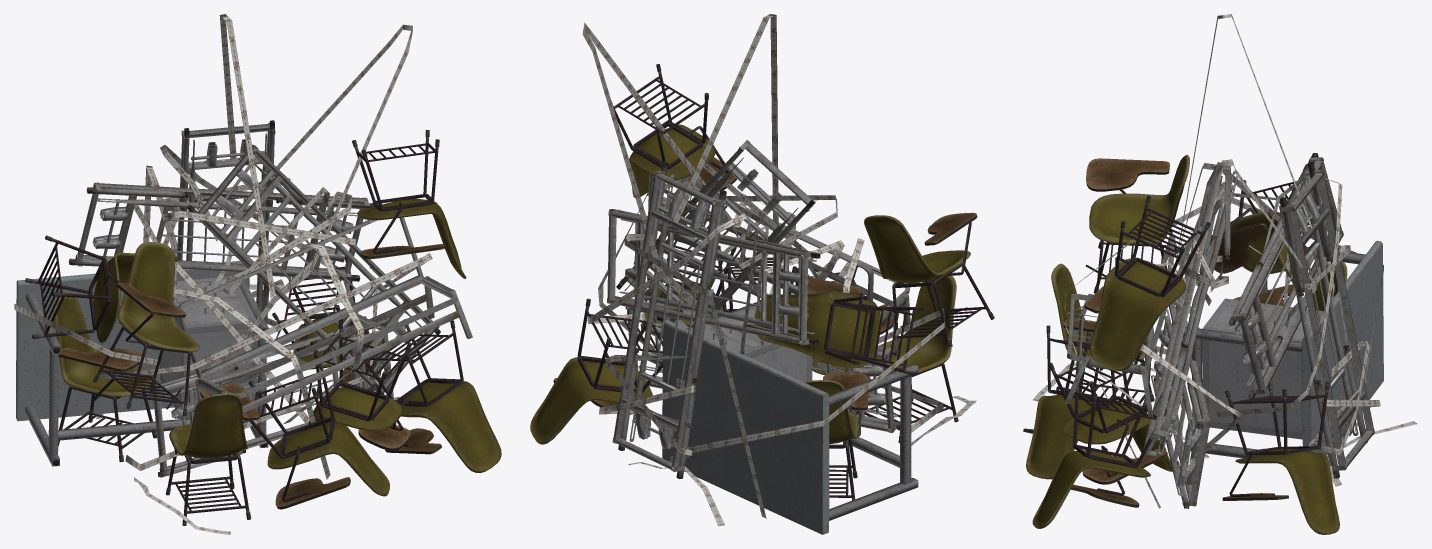
File: sm39_202_west_1f_poilicebarricade01.fbx
3 renders of one model, left to right at view 1: azimuth 30°, elevation 25°; view 2: azimuth 150°, elevation 25°; view 3: azimuth 270°, elevation 25°, orthographic.
Visible parts, largest first — view 1: LOD_1_Group_0_Sub_2__sm30_001_ChairDesk01A_A_Mat, LOD_1_Group_0_Sub_4__sm30_004_FoldingTable02A_A_Mat, LOD_1_Group_0_Sub_5__sm42_006_BlastBarricade01A_B_Mat, LOD_1_Group_0_Sub_1__sm30_059_HospitalDesk01A_A_Mat, LOD_1_Group_0_Sub_3__sm30_002_OfficeSofa01A_A_Mat; view 2: LOD_1_Group_0_Sub_2__sm30_001_ChairDesk01A_A_Mat, LOD_1_Group_0_Sub_4__sm30_004_FoldingTable02A_A_Mat, LOD_1_Group_0_Sub_1__sm30_059_HospitalDesk01A_A_Mat, LOD_1_Group_0_Sub_5__sm42_006_BlastBarricade01A_B_Mat, LOD_1_Group_0_Sub_3__sm30_002_OfficeSofa01A_A_Mat; view 3: LOD_1_Group_0_Sub_2__sm30_001_ChairDesk01A_A_Mat, LOD_1_Group_0_Sub_4__sm30_004_FoldingTable02A_A_Mat, LOD_1_Group_0_Sub_1__sm30_059_HospitalDesk01A_A_Mat, LOD_1_Group_0_Sub_5__sm42_006_BlastBarricade01A_B_Mat, LOD_1_Group_0_Sub_3__sm30_002_OfficeSofa01A_A_Mat.
Part boxes in pixels (x1=…): LOD_1_Group_0_Sub_2__sm30_001_ChairDesk01A_A_Mat: x1=25, y1=129, x2=501, y2=525; LOD_1_Group_0_Sub_4__sm30_004_FoldingTable02A_A_Mat: x1=68, y1=120, x2=440, y2=477; LOD_1_Group_0_Sub_5__sm42_006_BlastBarricade01A_B_Mat: x1=14, y1=14, x2=432, y2=534; LOD_1_Group_0_Sub_1__sm30_059_HospitalDesk01A_A_Mat: x1=16, y1=261, x2=268, y2=466; LOD_1_Group_0_Sub_3__sm30_002_OfficeSofa01A_A_Mat: x1=178, y1=217, x2=472, y2=412; LOD_1_Group_0_Sub_2__sm30_001_ChairDesk01A_A_Mat: x1=530, y1=64, x2=994, y2=500; LOD_1_Group_0_Sub_4__sm30_004_FoldingTable02A_A_Mat: x1=607, y1=140, x2=900, y2=478; LOD_1_Group_0_Sub_1__sm30_059_HospitalDesk01A_A_Mat: x1=662, y1=302, x2=918, y2=534; LOD_1_Group_0_Sub_5__sm42_006_BlastBarricade01A_B_Mat: x1=582, y1=14, x2=976, y2=526; LOD_1_Group_0_Sub_3__sm30_002_OfficeSofa01A_A_Mat: x1=633, y1=174, x2=910, y2=324; LOD_1_Group_0_Sub_2__sm30_001_ChairDesk01A_A_Mat: x1=1023, y1=154, x2=1347, y2=534; LOD_1_Group_0_Sub_4__sm30_004_FoldingTable02A_A_Mat: x1=1143, y1=153, x2=1374, y2=508; LOD_1_Group_0_Sub_1__sm30_059_HospitalDesk01A_A_Mat: x1=1183, y1=240, x2=1383, y2=458; LOD_1_Group_0_Sub_5__sm42_006_BlastBarricade01A_B_Mat: x1=1033, y1=14, x2=1417, y2=508; LOD_1_Group_0_Sub_3__sm30_002_OfficeSofa01A_A_Mat: x1=1064, y1=233, x2=1175, y2=417.
Bounding box in the file's own units: 2.83 × 3.27 × 2.54.
